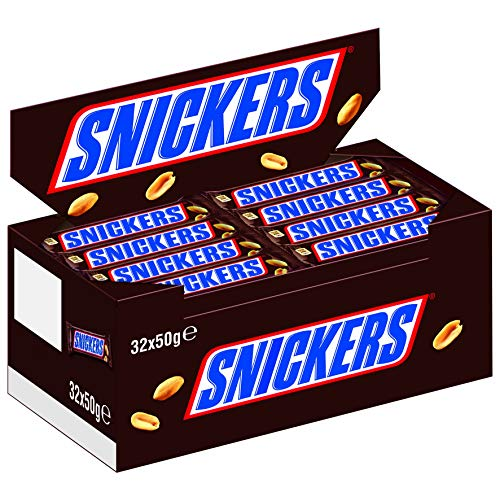snickers: (60, 53, 337, 182), (60, 55, 334, 182), (194, 301, 419, 410), (62, 200, 182, 249), (291, 192, 412, 239), (235, 157, 355, 203), (262, 177, 387, 221), (317, 211, 436, 257), (88, 219, 211, 262), (112, 237, 235, 280), (159, 256, 262, 288), (74, 330, 105, 354), (71, 340, 105, 354)
